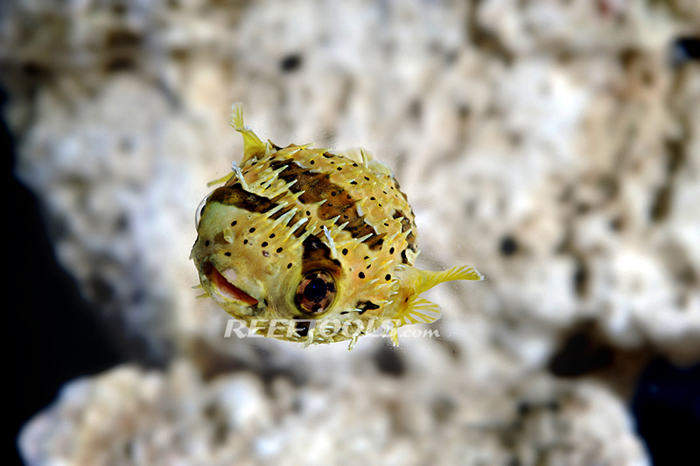Diodon_holocanthus: (173, 97, 477, 358)
